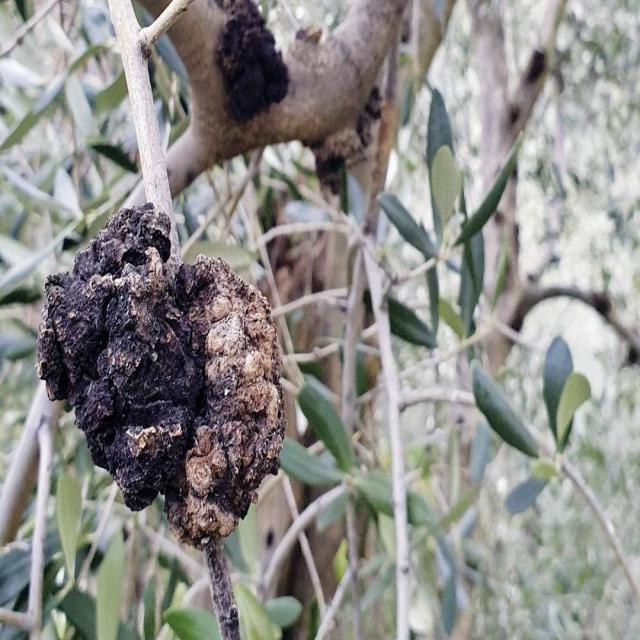Tuberculosis: (37, 203, 286, 554), (209, 0, 290, 123)
